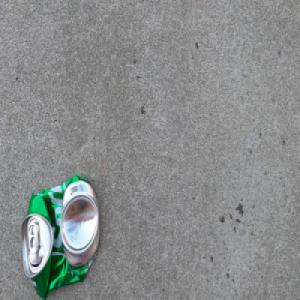SodaCan: (20, 174, 101, 300)
